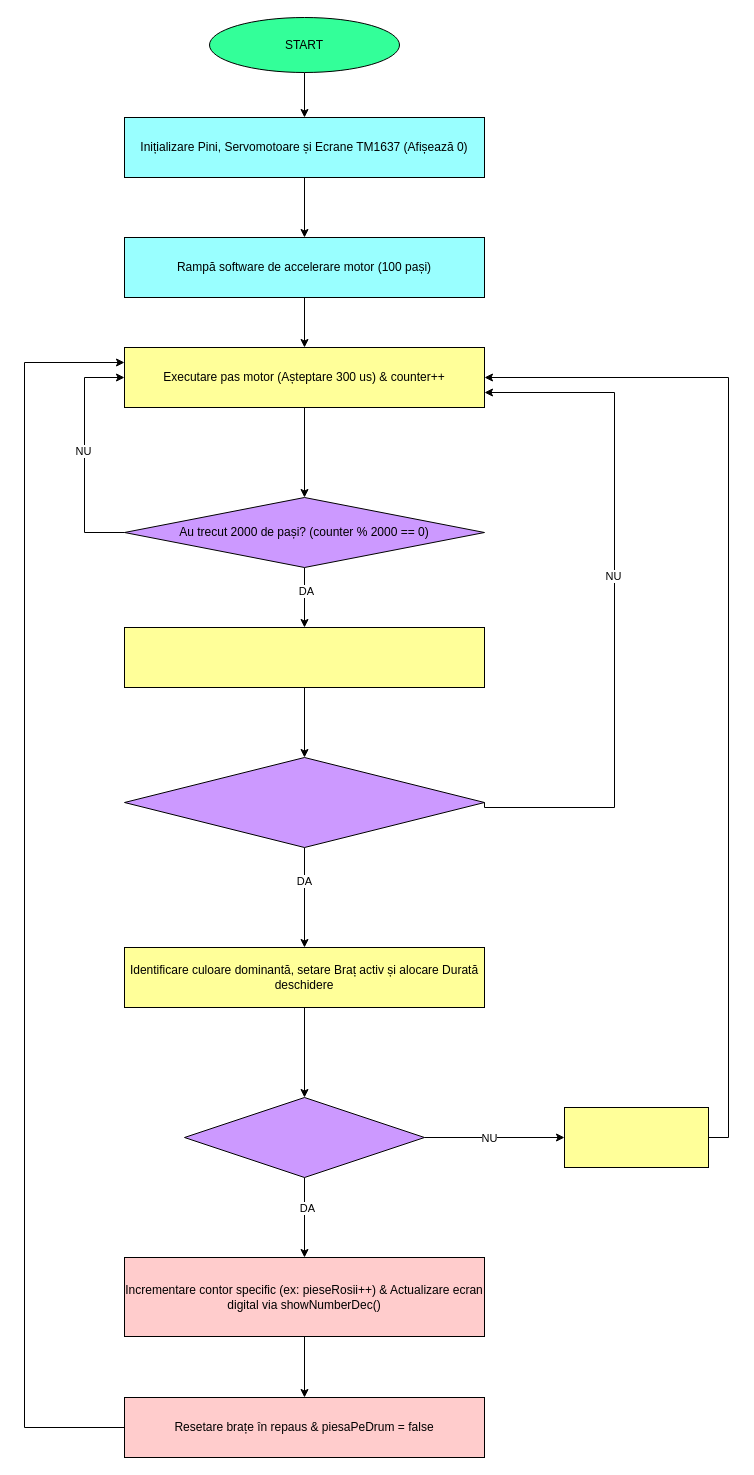
The diagram is 754 pixels wide and 1475 high, and some of its shapes have lost their labels. The shapes that lost their labels are listed below. From the top down, each one's centre as x and y in pixels, then its label:
pixel 304 657: Citire canale senzor TCS3200 via pulseIn()
pixel 304 802: S-a detectat o culoare validă? (Frecvență < 115)
pixel 304 1137: A expirat timpul de sortare?
pixel 636 1137: Menține barieră activă (Unghi 80° sau 95°)
